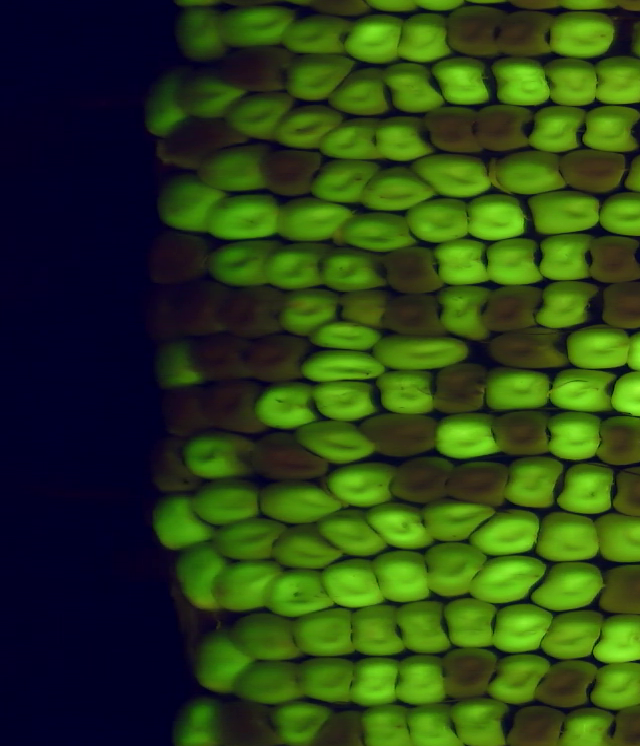fluorescent: (471, 552, 543, 608), (296, 416, 377, 465), (155, 176, 225, 231), (482, 366, 554, 419), (538, 55, 605, 109), (416, 152, 494, 198), (202, 196, 287, 238), (335, 211, 417, 254), (522, 192, 602, 236), (367, 502, 432, 556), (321, 68, 393, 116), (319, 511, 388, 561), (537, 560, 602, 613), (231, 613, 298, 664), (227, 90, 295, 140), (291, 607, 355, 660), (300, 655, 365, 707), (545, 13, 618, 59), (185, 430, 252, 480), (490, 600, 553, 653), (201, 146, 272, 193), (315, 248, 392, 291), (384, 63, 445, 117), (213, 517, 283, 564), (474, 509, 544, 556), (374, 334, 468, 369), (260, 243, 330, 290), (541, 511, 603, 564), (220, 4, 300, 45), (434, 281, 491, 338), (426, 499, 495, 546), (375, 369, 441, 418), (152, 497, 213, 550), (312, 158, 382, 204), (273, 199, 351, 240), (197, 631, 250, 691), (285, 55, 354, 101), (351, 604, 407, 660), (535, 282, 599, 331), (426, 543, 484, 597), (276, 103, 344, 149), (434, 54, 493, 107), (220, 558, 280, 610), (489, 57, 554, 105), (434, 412, 501, 458), (177, 73, 244, 119), (558, 462, 614, 517), (178, 544, 226, 608), (260, 482, 338, 521), (398, 596, 452, 652), (208, 243, 278, 286), (254, 382, 318, 429), (494, 154, 571, 193), (283, 16, 358, 56), (429, 237, 490, 286), (548, 410, 605, 462), (542, 609, 600, 660), (372, 552, 430, 603), (324, 560, 383, 610), (199, 477, 263, 523), (298, 350, 390, 382), (270, 570, 331, 618), (552, 366, 617, 411), (277, 528, 346, 570), (345, 15, 404, 64), (142, 77, 191, 136), (539, 233, 598, 282), (491, 652, 546, 704), (464, 193, 526, 239), (450, 697, 508, 746), (564, 326, 631, 368), (582, 104, 640, 152), (328, 463, 397, 503), (282, 284, 334, 337), (318, 115, 382, 158), (168, 696, 225, 744), (408, 199, 473, 241), (240, 664, 306, 705), (507, 457, 559, 509), (444, 598, 498, 648), (400, 654, 449, 709), (482, 240, 544, 283), (268, 700, 329, 743), (364, 171, 433, 209), (376, 114, 432, 160), (396, 16, 453, 61), (314, 380, 378, 420), (533, 104, 587, 151), (176, 9, 227, 58), (595, 54, 640, 105), (598, 613, 640, 667), (402, 704, 455, 746), (599, 510, 640, 564), (353, 657, 400, 704), (595, 662, 640, 711), (563, 704, 614, 746), (309, 321, 381, 349), (359, 706, 409, 746), (156, 345, 202, 387), (599, 191, 640, 235), (560, 1, 619, 11), (378, 1, 418, 15), (412, 1, 464, 11), (175, 1, 218, 8)
nonfluorescent: (248, 432, 329, 479), (151, 122, 242, 162), (485, 329, 573, 369), (242, 331, 311, 381), (384, 290, 449, 343), (434, 359, 497, 412), (221, 45, 292, 92), (488, 410, 558, 457), (206, 379, 263, 436), (377, 249, 443, 298), (265, 147, 324, 201), (484, 284, 546, 335), (474, 100, 532, 153), (156, 382, 209, 439), (388, 456, 450, 504), (362, 417, 440, 455), (493, 10, 556, 57), (229, 290, 291, 337), (449, 463, 511, 510), (446, 7, 503, 58), (184, 281, 235, 338), (154, 234, 208, 287), (442, 648, 497, 700), (148, 438, 199, 494), (562, 150, 631, 191), (425, 104, 481, 153), (219, 701, 278, 746), (589, 235, 640, 286), (590, 417, 640, 468), (193, 336, 247, 382), (551, 660, 598, 710), (596, 565, 640, 617), (306, 710, 368, 746), (504, 710, 566, 746), (598, 281, 640, 334), (151, 291, 191, 342), (608, 704, 640, 746), (315, 1, 370, 18), (506, 1, 565, 10)
